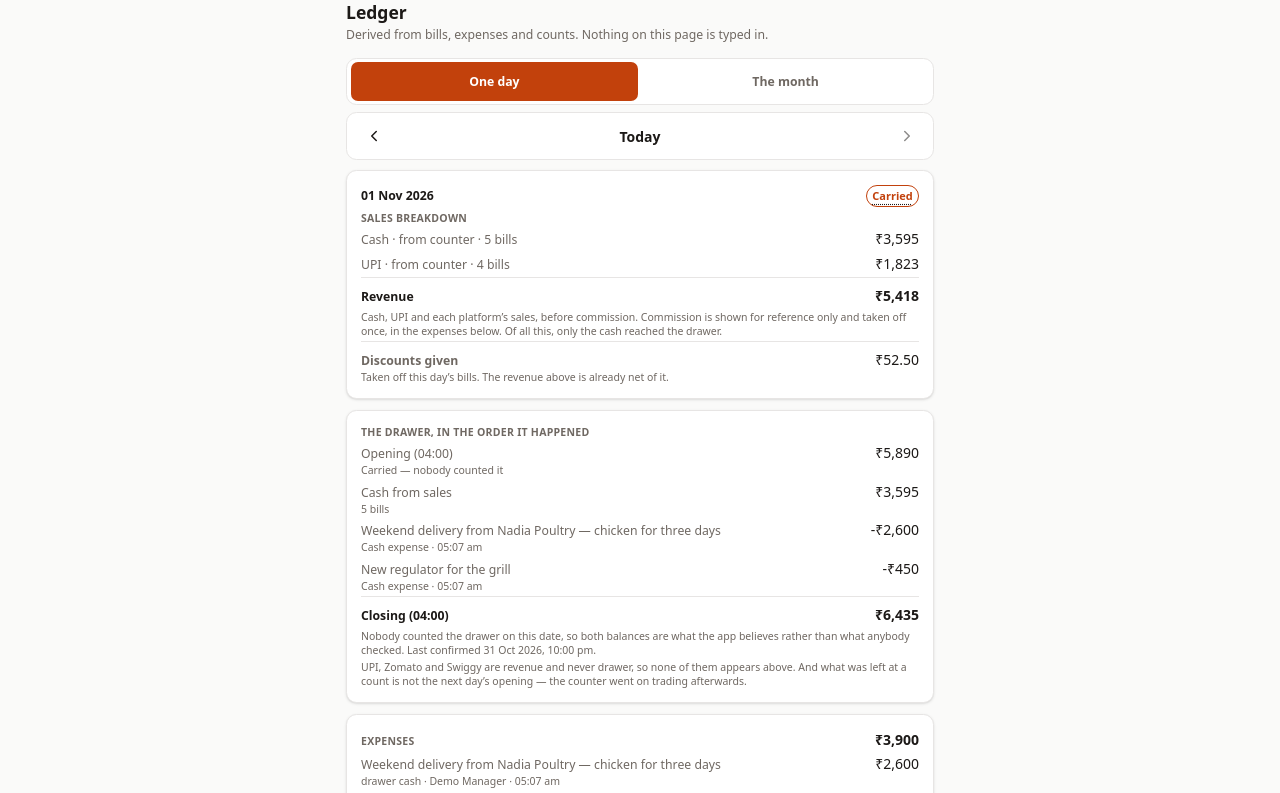
Scenario: an uncounted day says its balances are unchecked › marks them carried and names when the drawer was last confirmed
The image size is (1280, 793).
expect the element with test id "ledger-drawer" is shown: met, box [346, 410, 934, 703]
expect the text with test id "drawer-carried" shows "what the app believes rather than what anybody checked": met, box [361, 629, 910, 657]
What coordinates should you click on to do the following:
click the button named "what carried means"
I would click on:
 (892, 196)
Its box is [866, 185, 919, 207].
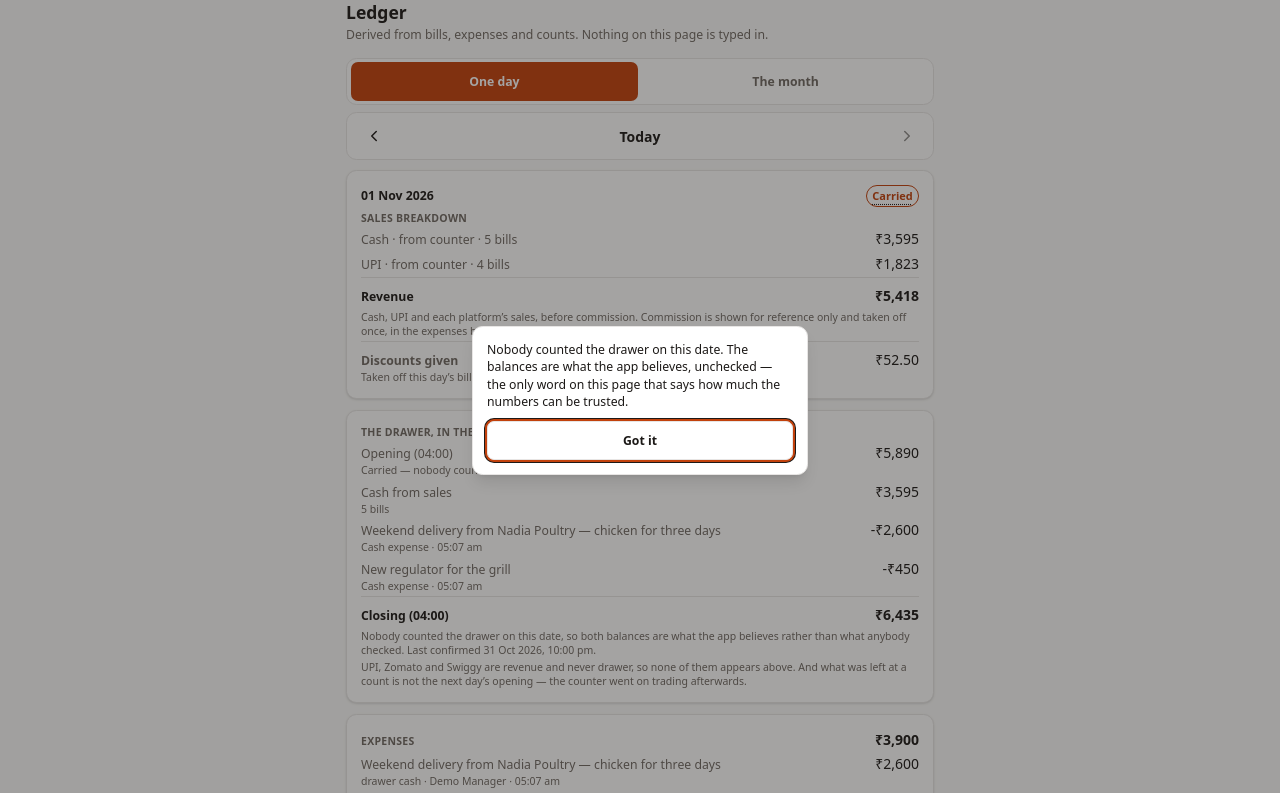
expect the text "how much the numbers can be trusted" is shown: met, box [487, 340, 780, 410]
